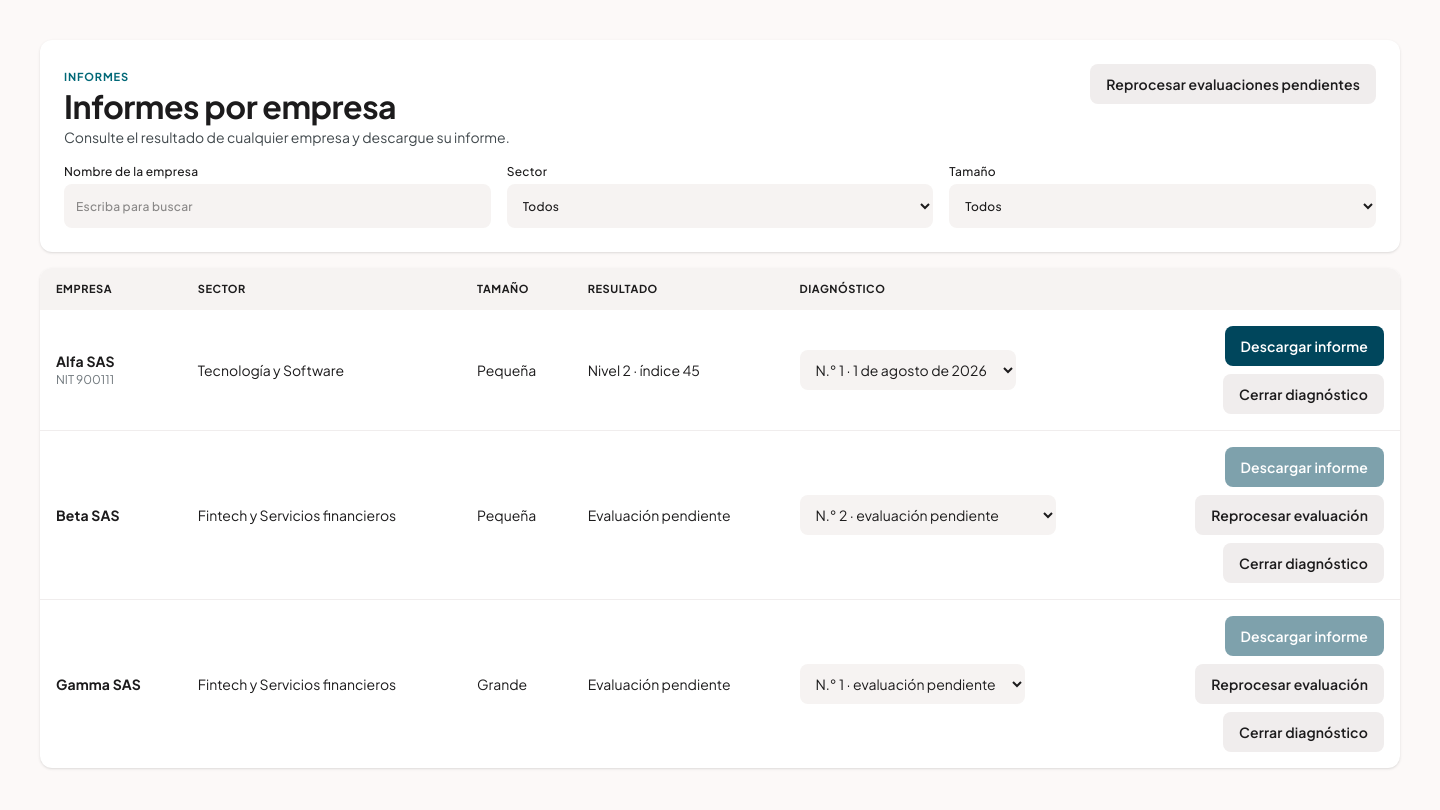
Test: Informes por empresa: cierre y reproceso por el administrador › el diagnóstico evaluado se puede cerrar, previa confirmación, y la lista se actualiza
Click the button with aria-label "Cerrar el diagnóstico N.° 1 de Alfa SAS".
click(1304, 394)  # box [1223,374,1384,414]
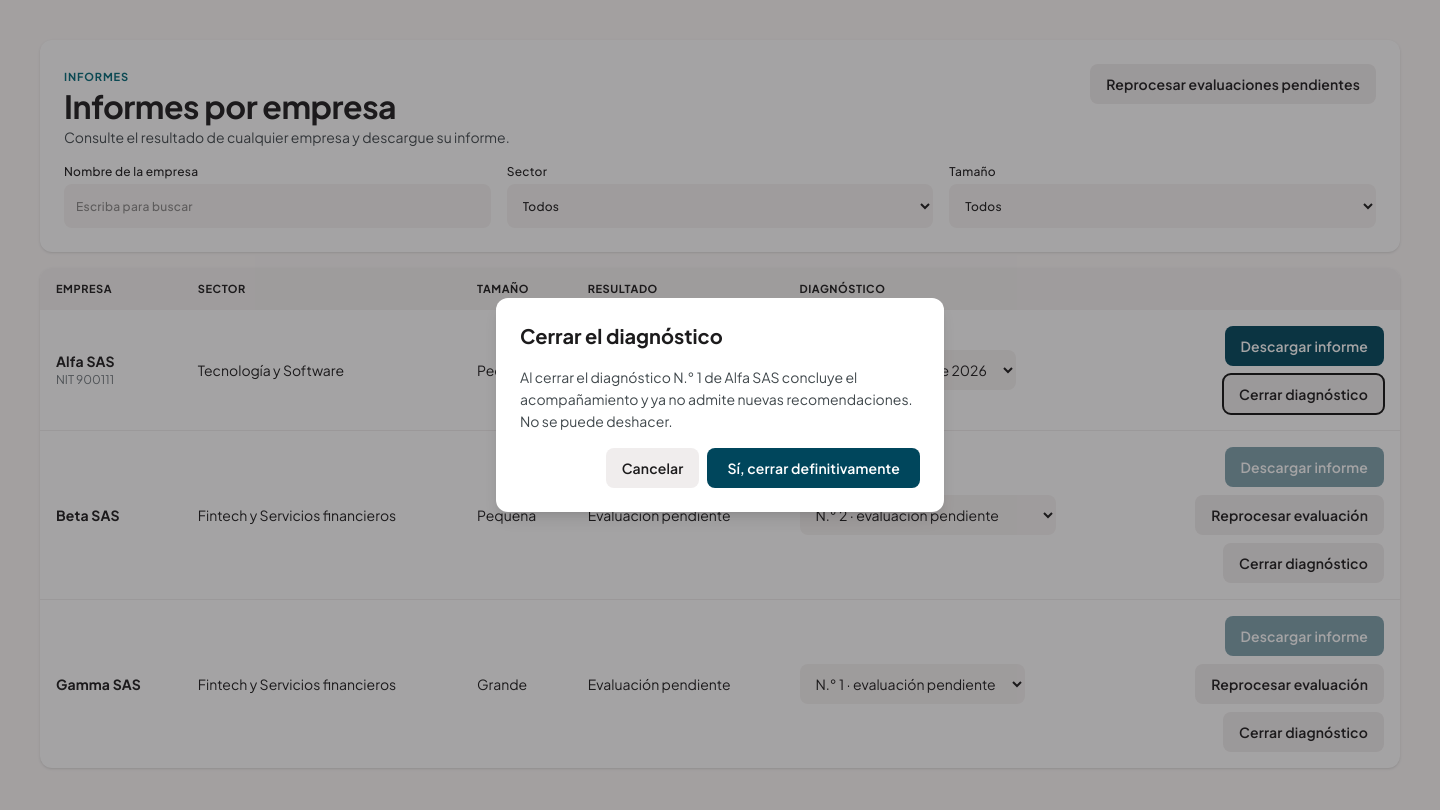
Click the button "Sí, cerrar definitivamente".
click(814, 468)  # box [708,448,920,488]
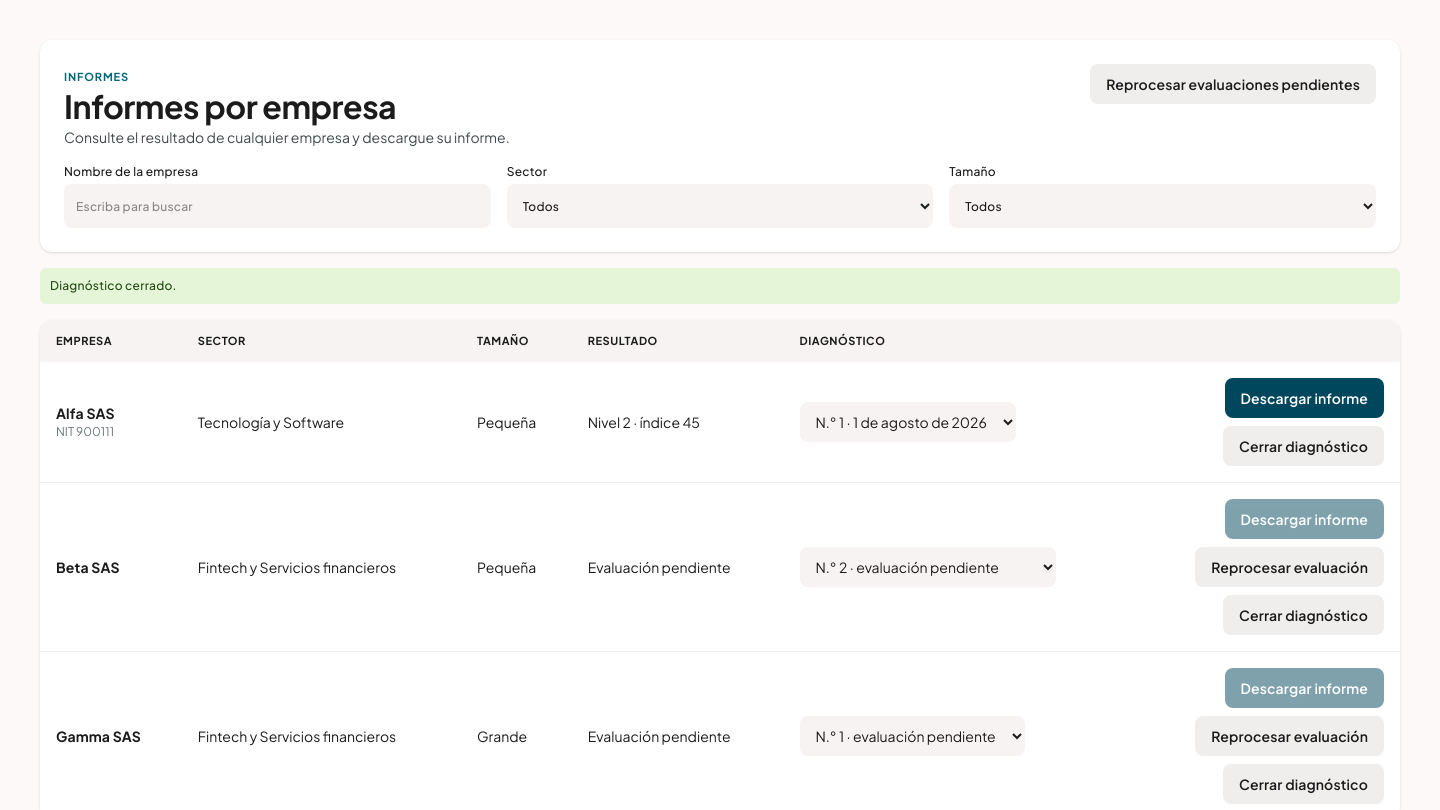
Check: the text "Diagnóstico cerrado." is shown, box [40,268,1400,304]
